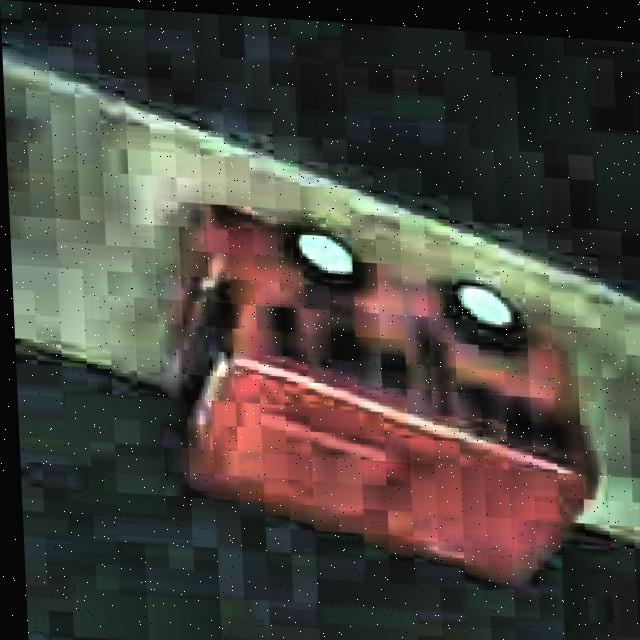bus: (167, 190, 602, 591)
